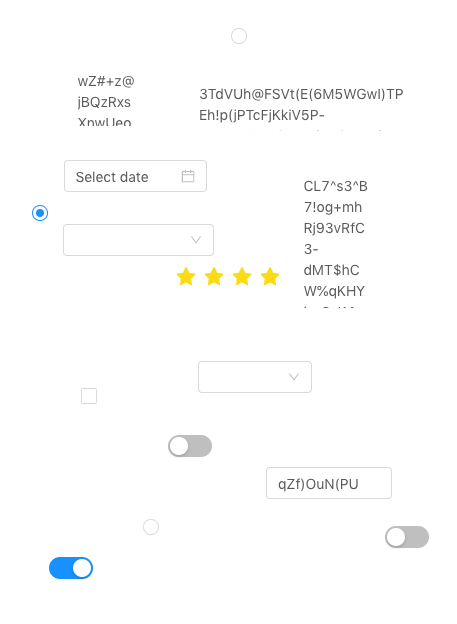Checkbox: (81, 385, 97, 406)
DatePicker: (64, 160, 207, 192)
Input: (266, 467, 392, 499)
Radio: (231, 25, 247, 45), (143, 516, 159, 536), (32, 202, 48, 222)
Rate: (176, 260, 296, 292)
Select: (63, 224, 214, 256), (198, 361, 312, 393)
Switch: (168, 434, 212, 458), (49, 556, 93, 580), (385, 525, 429, 549)
Text: (199, 83, 411, 131), (304, 175, 369, 308), (78, 70, 137, 126)
